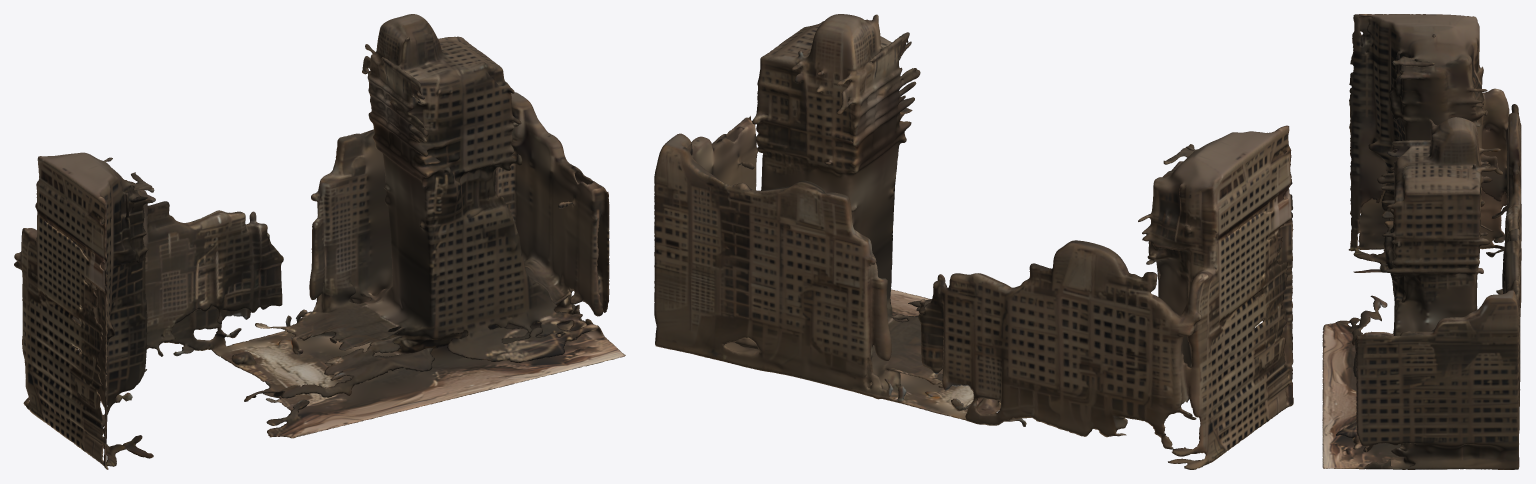
File: ruins-megastructures.glb
3 renders of one model, left to right at view 1: azimuth 30°, elevation 25°; view 2: azimuth 150°, elevation 25°; view 3: azimuth 270°, elevation 25°, orthographic. The views are drawn at different scales.
Parts seen in each view (by area): view 1: Mesh_001; view 2: Mesh_001; view 3: Mesh_001.
Part boxes in pixels (x1=…): Mesh_001: x1=14, y1=14, x2=625, y2=469; Mesh_001: x1=654, y1=14, x2=1293, y2=469; Mesh_001: x1=1322, y1=14, x2=1521, y2=469.
Size of the model in its own units: 1.89 by 1.15 by 0.7126.
Materials: 1 (1 with a texture image).
